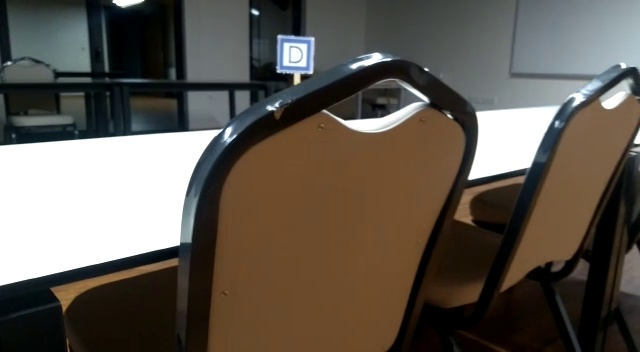durak: (276, 33, 317, 75)
